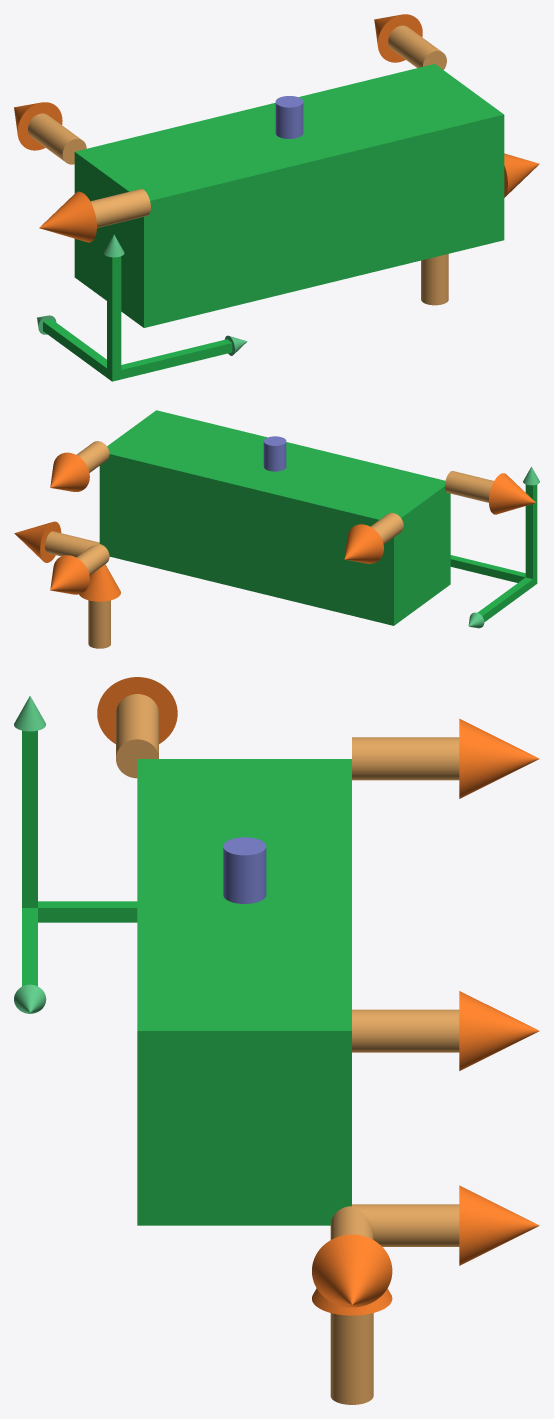
File: GUE5A1.glb
The picture shows the model from 3 angles, top to bottom: view 1: azimuth 30°, elevation 25°; view 2: azimuth 150°, elevation 25°; view 3: azimuth 270°, elevation 25°; orthographic projection. The views are drawn at different scales.
Size of the model in its own units: 0.19 by 0.085 by 0.098.
